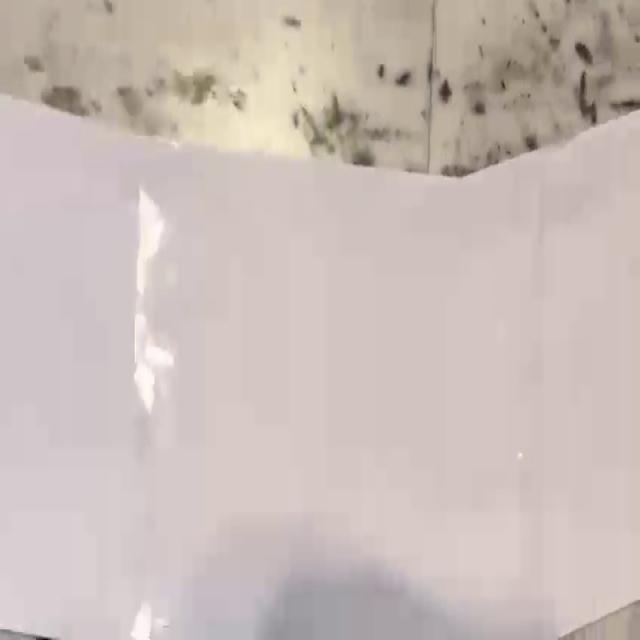road: (0, 96, 640, 639)
